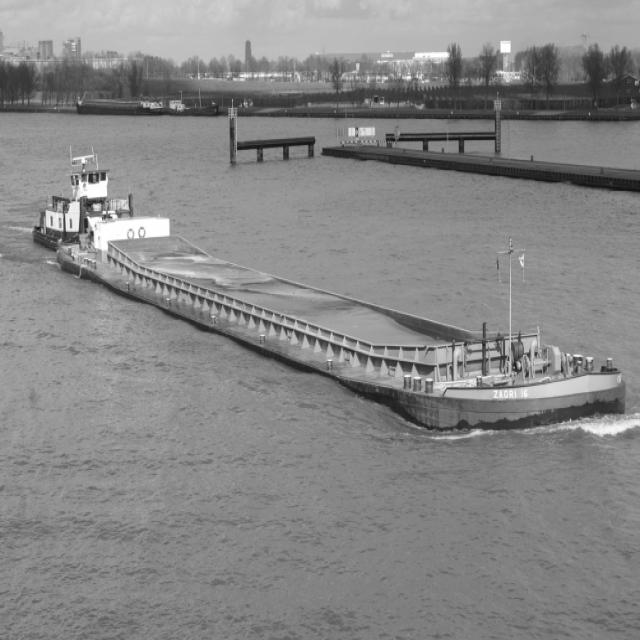tugboat: (30, 142, 142, 263)
